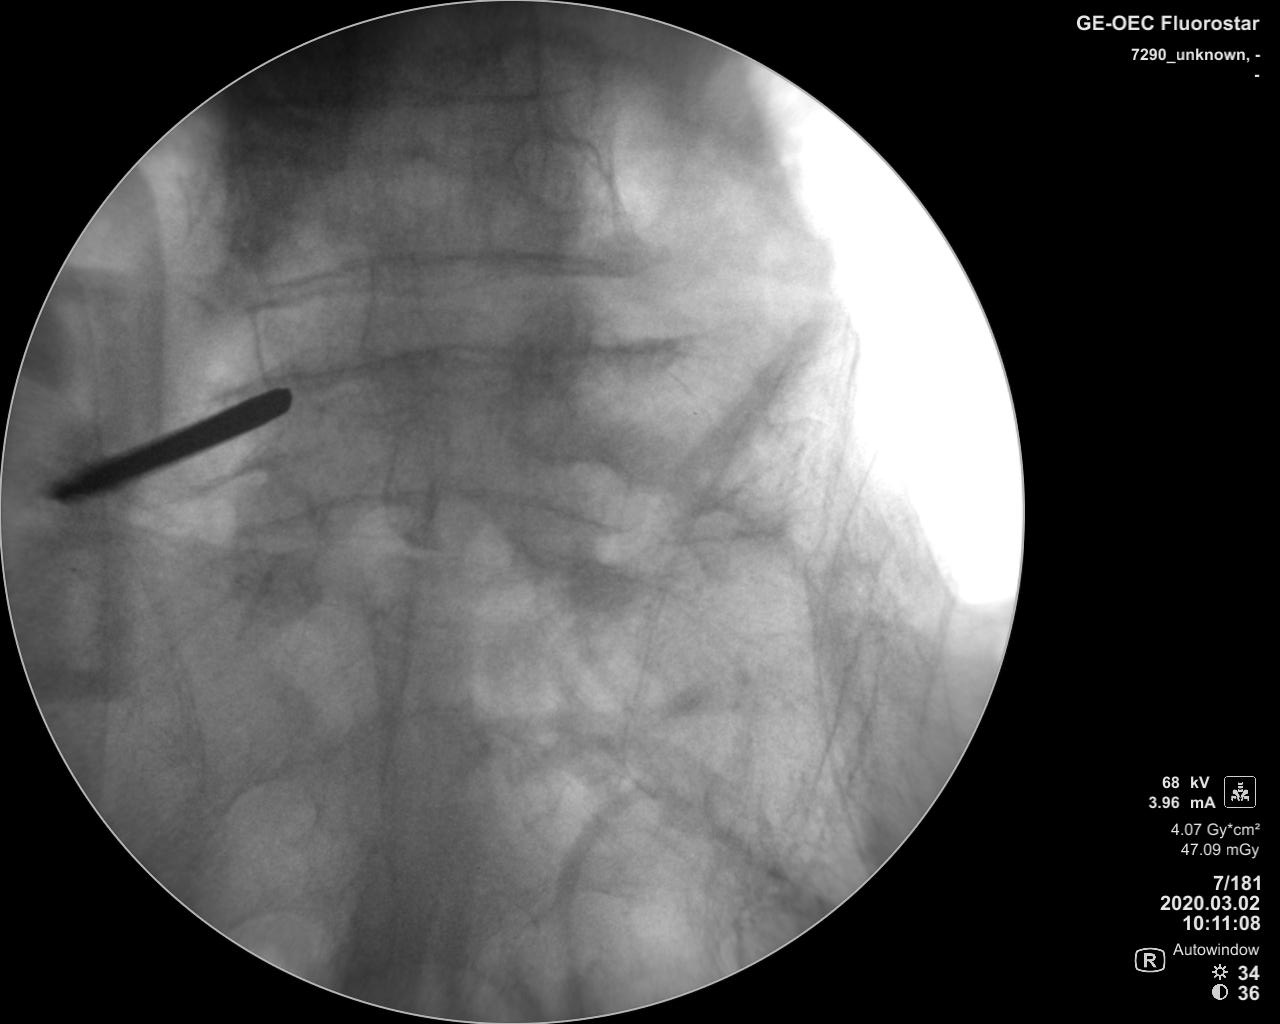eyes: (511, 124, 599, 215)
line: (219, 338, 706, 391), (223, 488, 628, 536), (255, 249, 637, 290), (237, 79, 543, 120)
nose: (360, 242, 429, 393), (379, 415, 438, 546)
